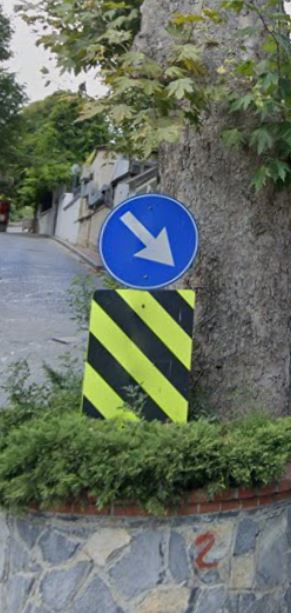Sagdan Git: (92, 189, 198, 285)
